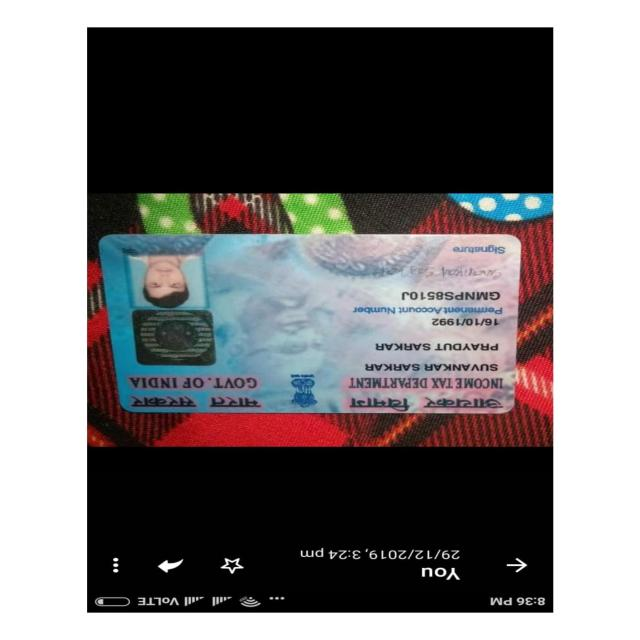pan_card: (103, 238, 519, 412)
